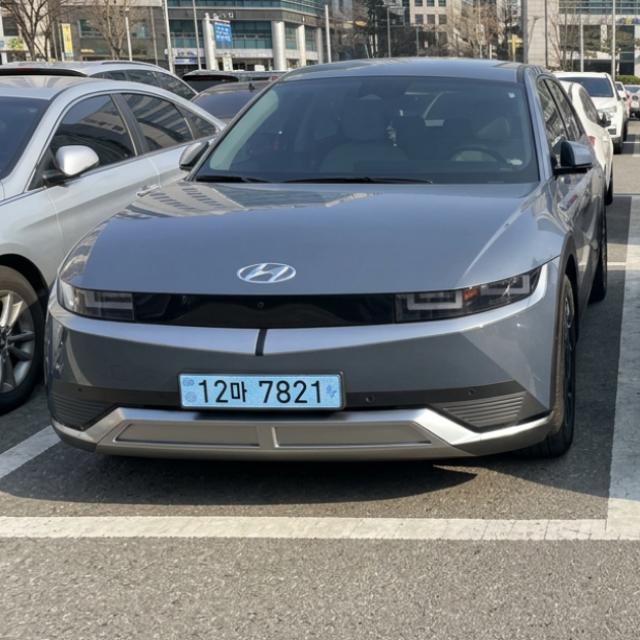car: (159, 368, 364, 423)
carev: (179, 373, 198, 412), (324, 373, 343, 410)
